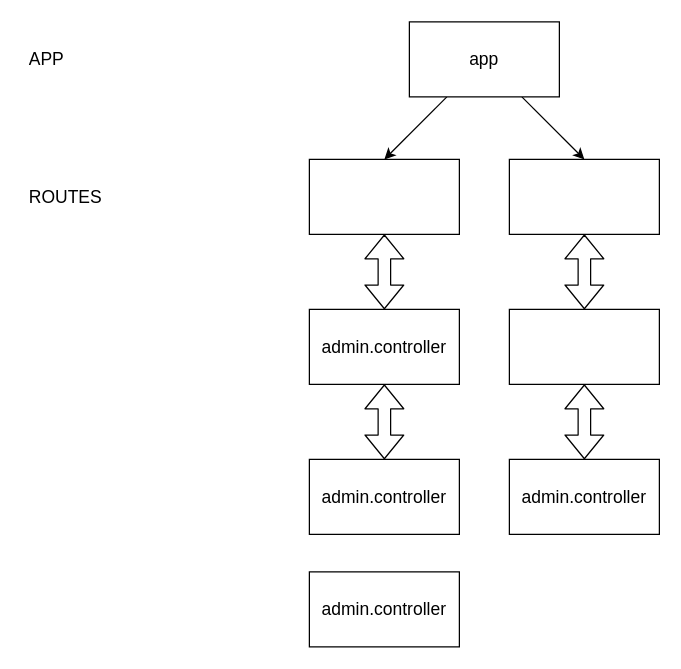
The diagram is 681 pixels wide and 669 high, and some of its shapes have lost their labels. Each missing label, with the centre of its shape:
"admin.routes" belongs at (383,196).
"personal.controller" belongs at (583,346).
"personal.routes" belongs at (583,196).
